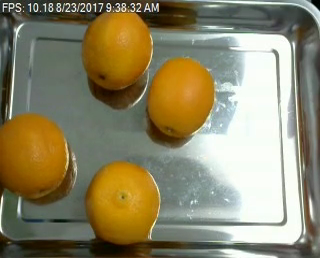Orange: (84, 161, 159, 242), (82, 7, 154, 88), (1, 113, 69, 198), (146, 56, 214, 138)
